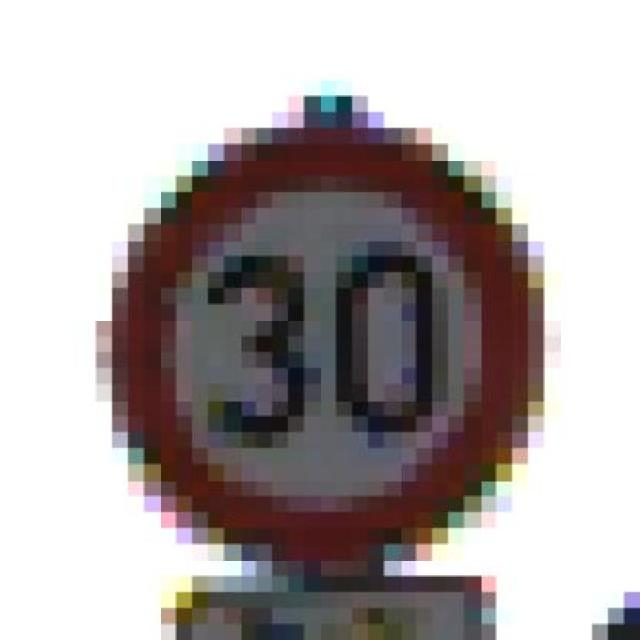Speed Limit 30 KMPh: (64, 112, 591, 576)
